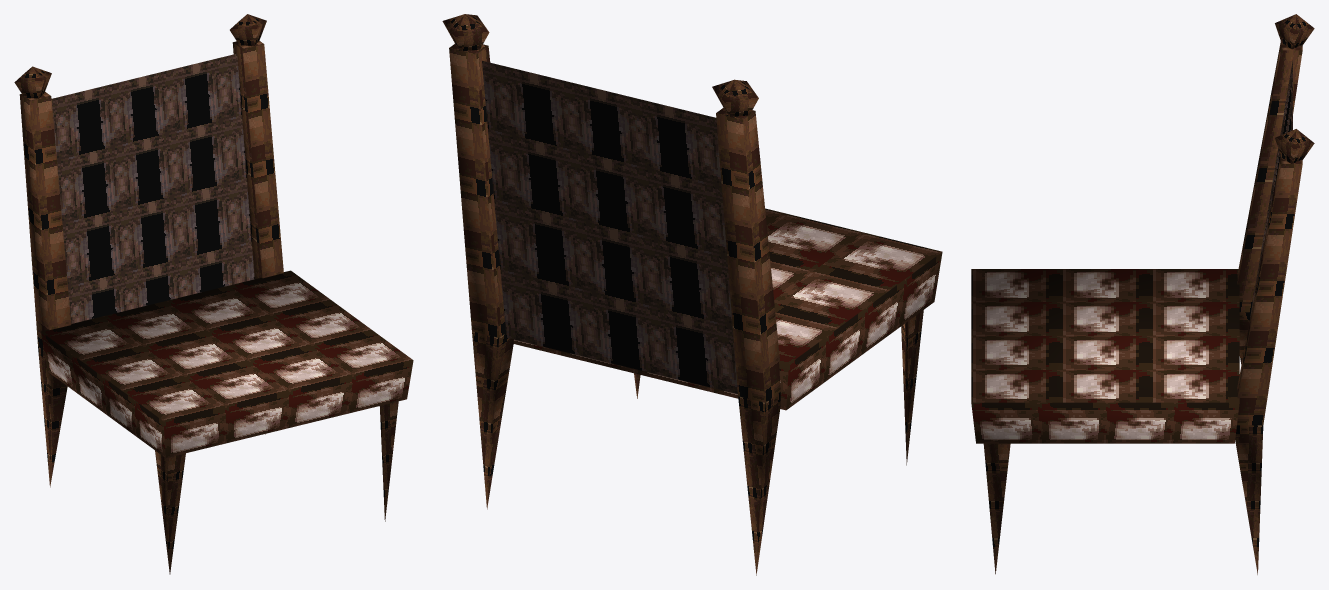
The model's file is 3171IMFY05_03.gltf.
3 views of the same model, side by side, from view 1: azimuth 30°, elevation 25°; view 2: azimuth 150°, elevation 25°; view 3: azimuth 270°, elevation 25° (orthographic). The views are drawn at different scales.
Parts seen in each view (by area): view 1: 3171IMFY05_03; view 2: 3171IMFY05_03; view 3: 3171IMFY05_03.
Boxes of the visible parts, x1,y1,x2,y2 form: 3171IMFY05_03: (14, 14, 413, 574); 3171IMFY05_03: (442, 14, 942, 575); 3171IMFY05_03: (971, 14, 1314, 574).
Size of what is drawn, in the model's own units: 0.8618 by 1.33 by 0.9275.
Materials: 3 (3 with a texture image).
